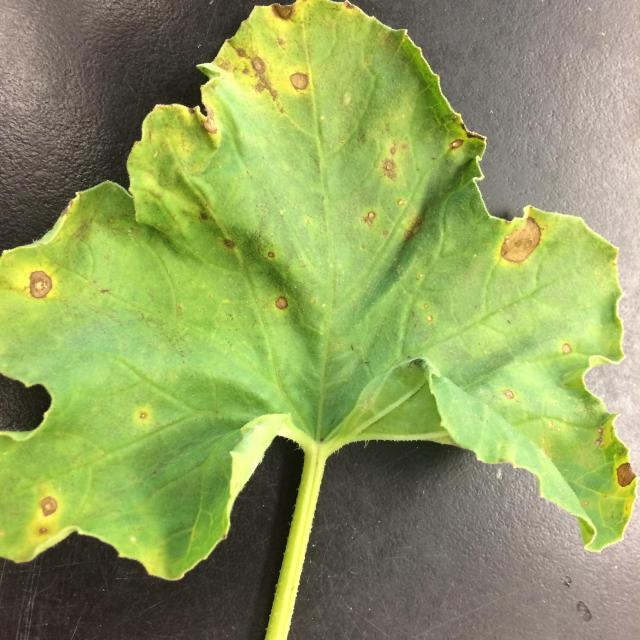blight: (468, 214, 544, 278)
